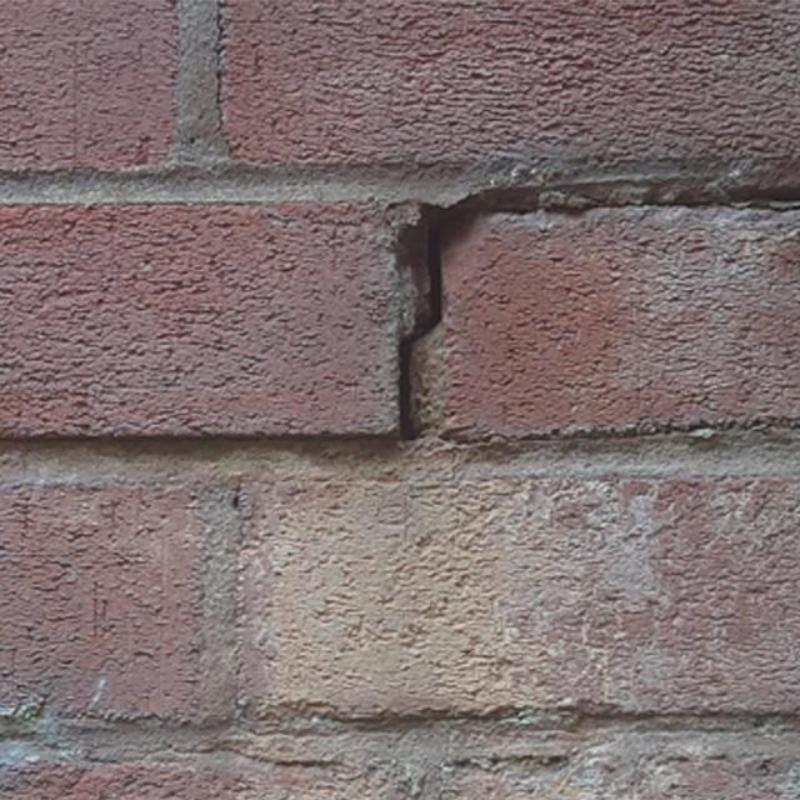pothole: (392, 189, 547, 444), (582, 188, 799, 219)
